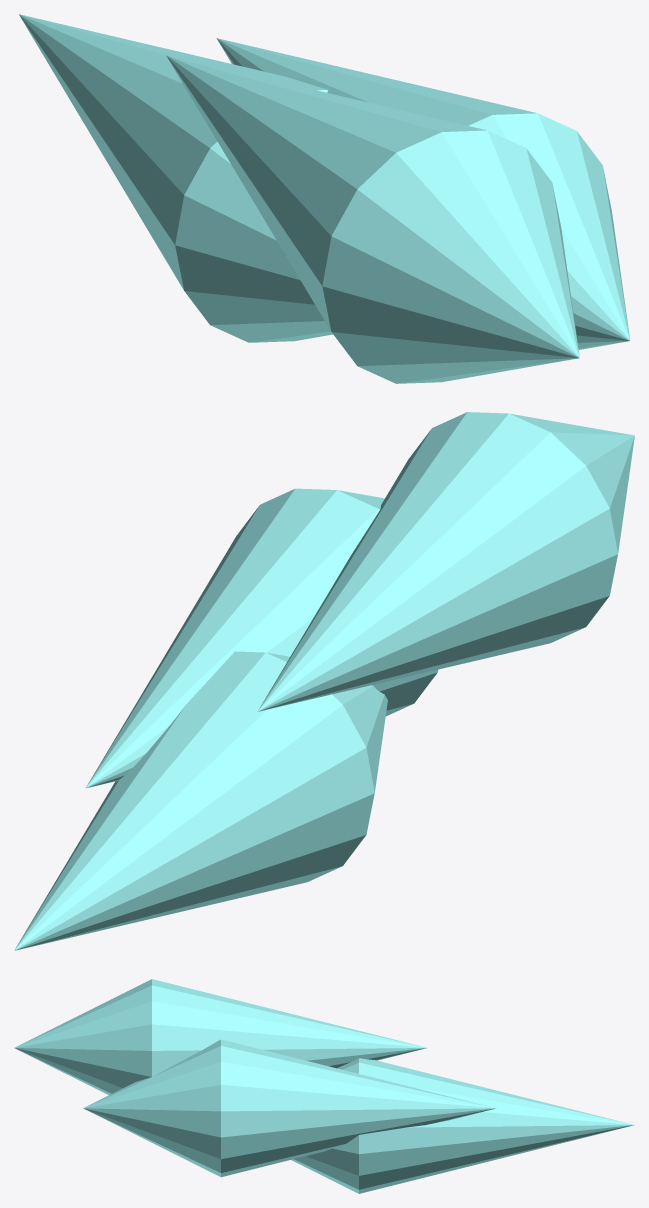
The model's file is ice.fbx.
The picture shows the model from 3 angles, top to bottom: view 1: azimuth 30°, elevation 25°; view 2: azimuth 150°, elevation 25°; view 3: azimuth 270°, elevation 25°; orthographic projection. The views are drawn at different scales.
Parts seen in each view (by area): view 1: 원뿔.001; view 2: 원뿔.001; view 3: 원뿔.001.
Part boxes in pixels (left/top/right/bottom): 원뿔.001: left=19, top=14, right=630, bottom=383; 원뿔.001: left=14, top=412, right=634, bottom=950; 원뿔.001: left=14, top=979, right=634, bottom=1193.
Size of the model in its own units: 300 by 300 by 900.
